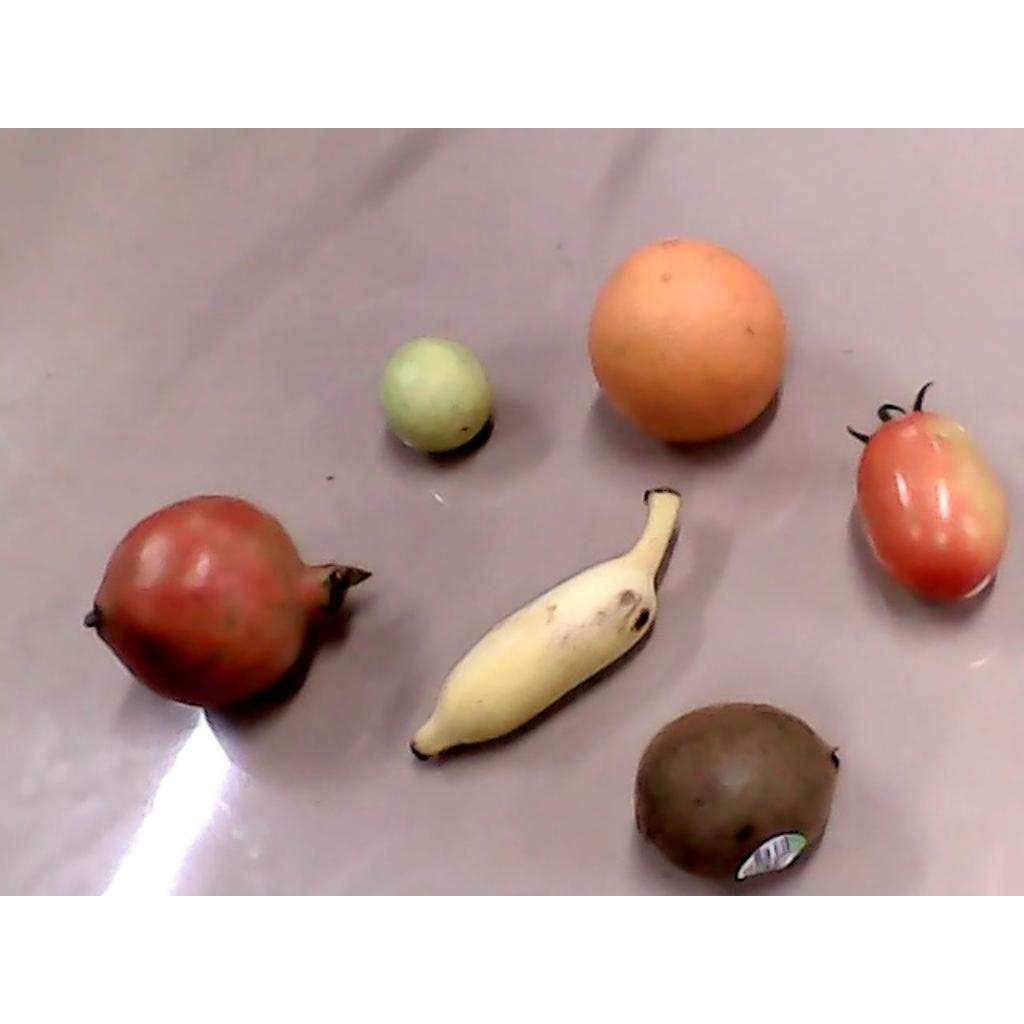kiwi: (632, 701, 843, 884)
lemon: (376, 338, 489, 451)
orange: (590, 237, 789, 441)
pomegranate: (84, 495, 373, 710)
tomato: (847, 382, 1007, 604)
